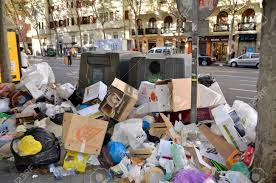garbage: (4, 86, 192, 183), (136, 113, 254, 183), (19, 70, 55, 165)
